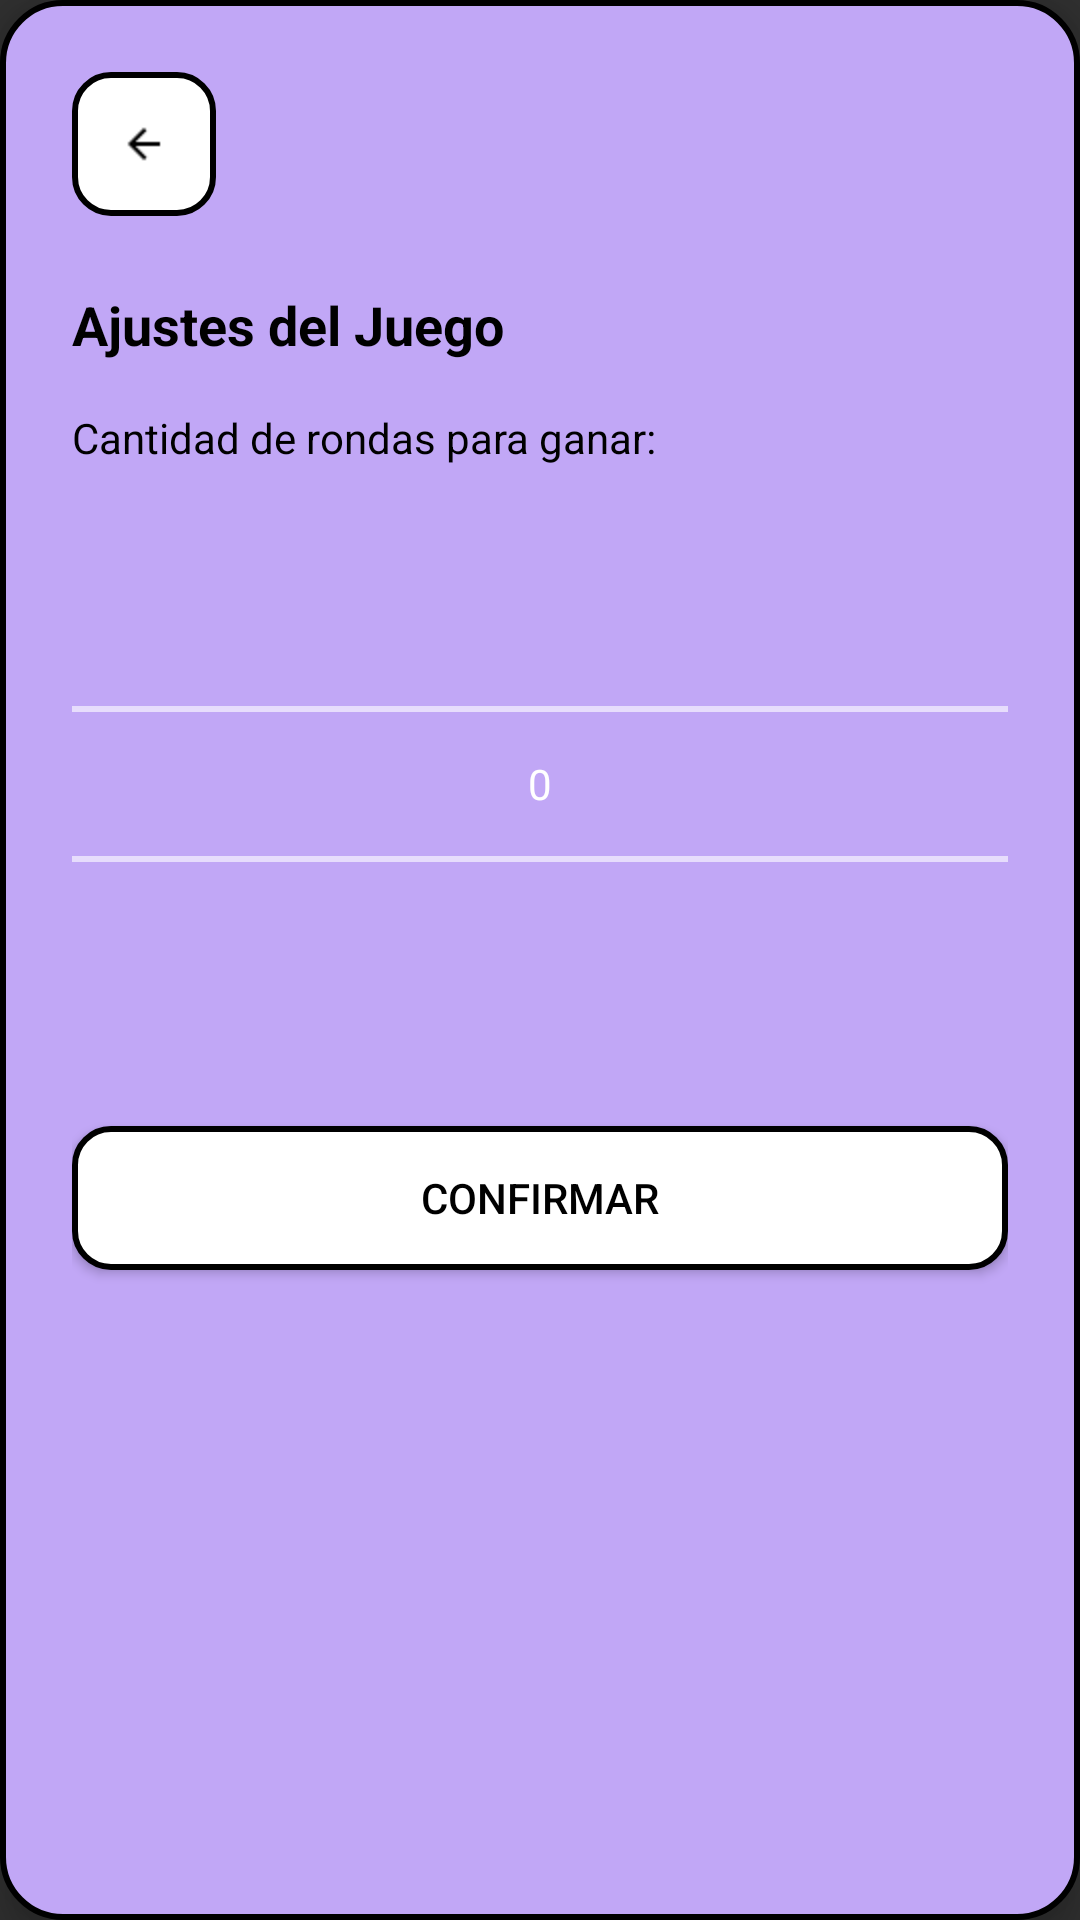

Where icons sit on this 1080 x 1920 app screen, as (x1, y1, x2, y2):
Boton para volver artras: (72, 72, 216, 216)
